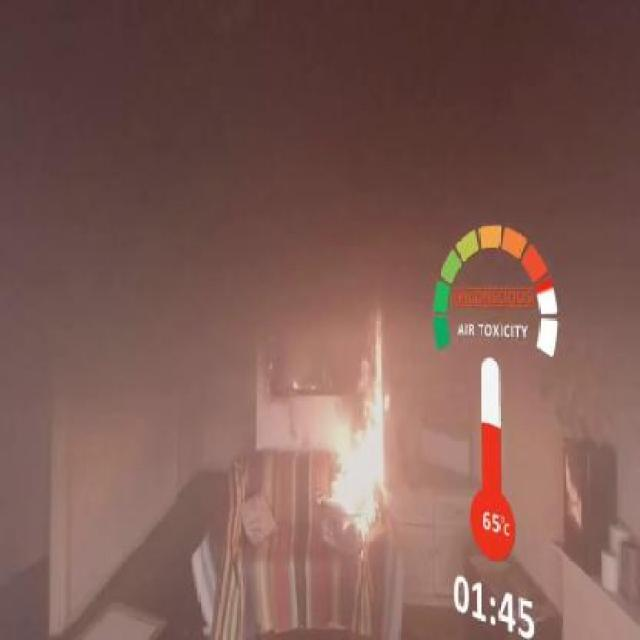smoke: (92, 18, 474, 407)
